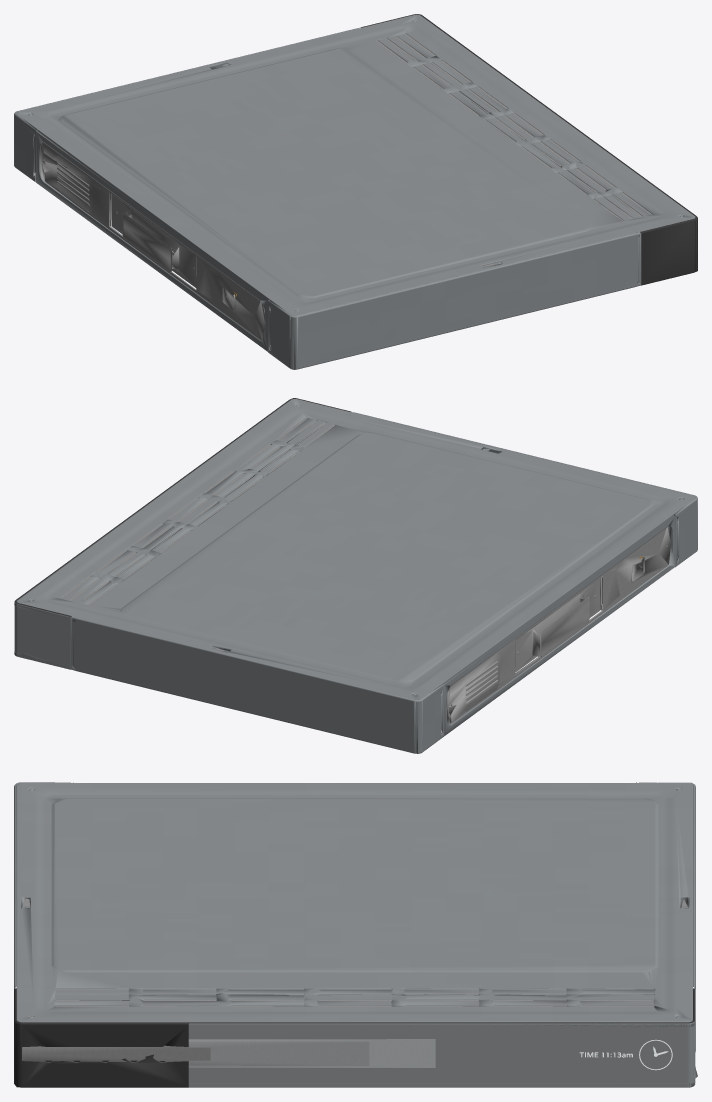
Rendered from appliance_stoveHood_a01.glb.
3 views of the same model, one above another, from view 1: azimuth 30°, elevation 25°; view 2: azimuth 150°, elevation 25°; view 3: azimuth 270°, elevation 25° (orthographic). The views are drawn at different scales.
Visible parts, largest first — view 1: sm_appliance_stoveHood_a01_01; view 2: sm_appliance_stoveHood_a01_01; view 3: sm_appliance_stoveHood_a01_01.
Boxes of the visible parts, x1=… form: sm_appliance_stoveHood_a01_01: x1=14, y1=14, x2=697, y2=369; sm_appliance_stoveHood_a01_01: x1=14, y1=398, x2=697, y2=753; sm_appliance_stoveHood_a01_01: x1=14, y1=782, x2=697, y2=1087.
Size of the model in its own units: 0.5103 by 0.0856 by 0.6019.
18 materials, 15 textured.
